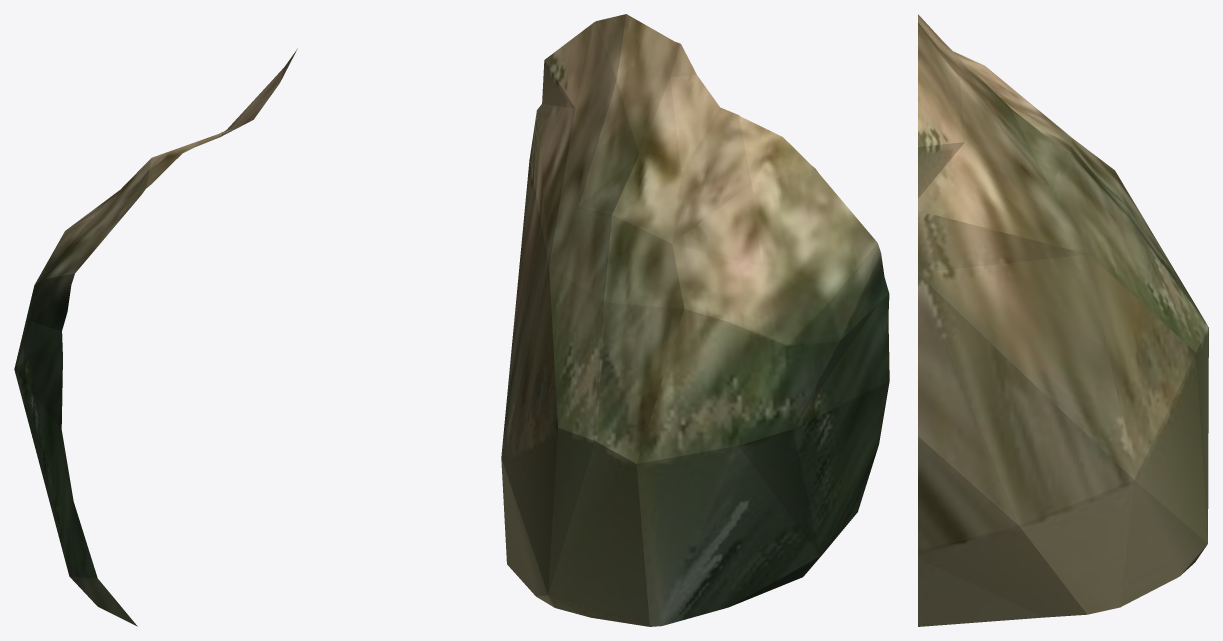
3 views of the same model, side by side, from view 1: azimuth 30°, elevation 25°; view 2: azimuth 150°, elevation 25°; view 3: azimuth 270°, elevation 25° (orthographic). The views are drawn at different scales.
Bounding box in the file's own units: 1.35 × 1.76 × 0.8204.
1 material, 1 textured.
